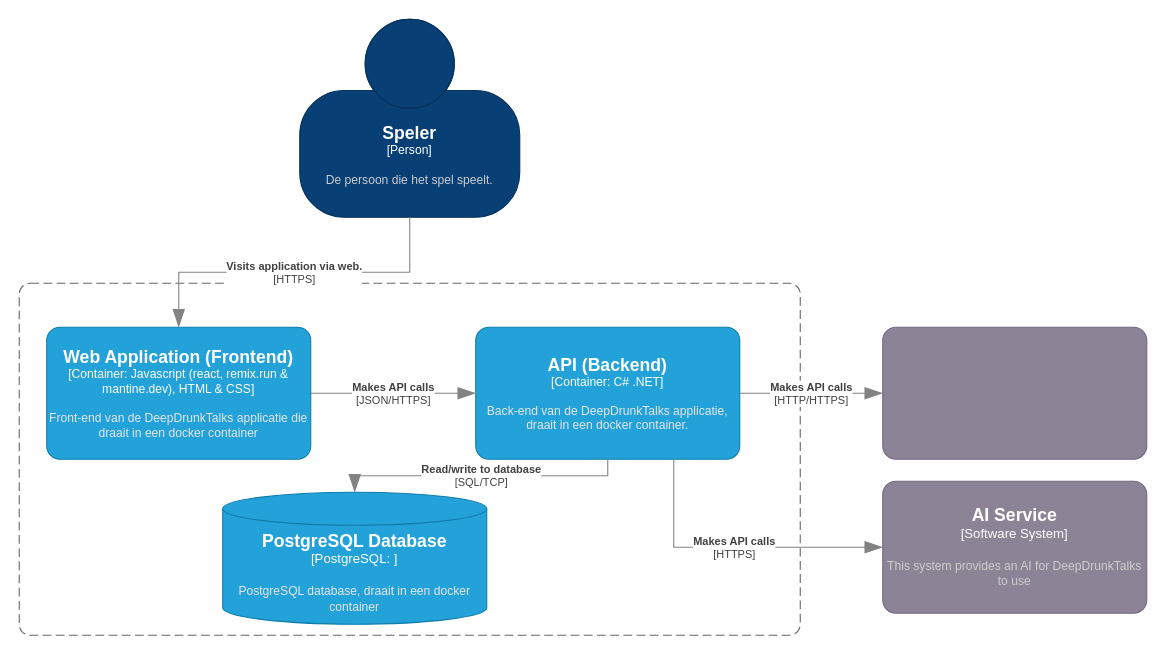
Some shapes in this 1166 by 655 pixel diagram are drawn without their labels. Here are the shapes that lost their labels. From the top down, the box of each, then its label:
(882, 326, 1147, 459): STT System [Software System] This service handles STT for DeepDrunkTalks
(18, 282, 800, 635): DeepDrunkTalks [Software System]
